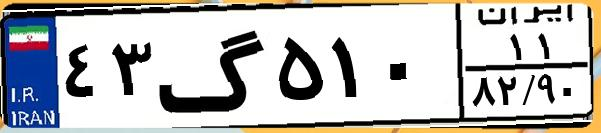0: (385, 28, 445, 110), (560, 70, 590, 125)
1: (330, 28, 385, 110), (537, 27, 568, 80), (508, 27, 537, 80)
2: (495, 70, 520, 125)
3: (110, 28, 156, 98)
4: (57, 26, 110, 100)
5: (270, 28, 330, 110)
8: (470, 70, 495, 125)
9: (535, 70, 560, 125)
گ: (156, 12, 270, 120)
